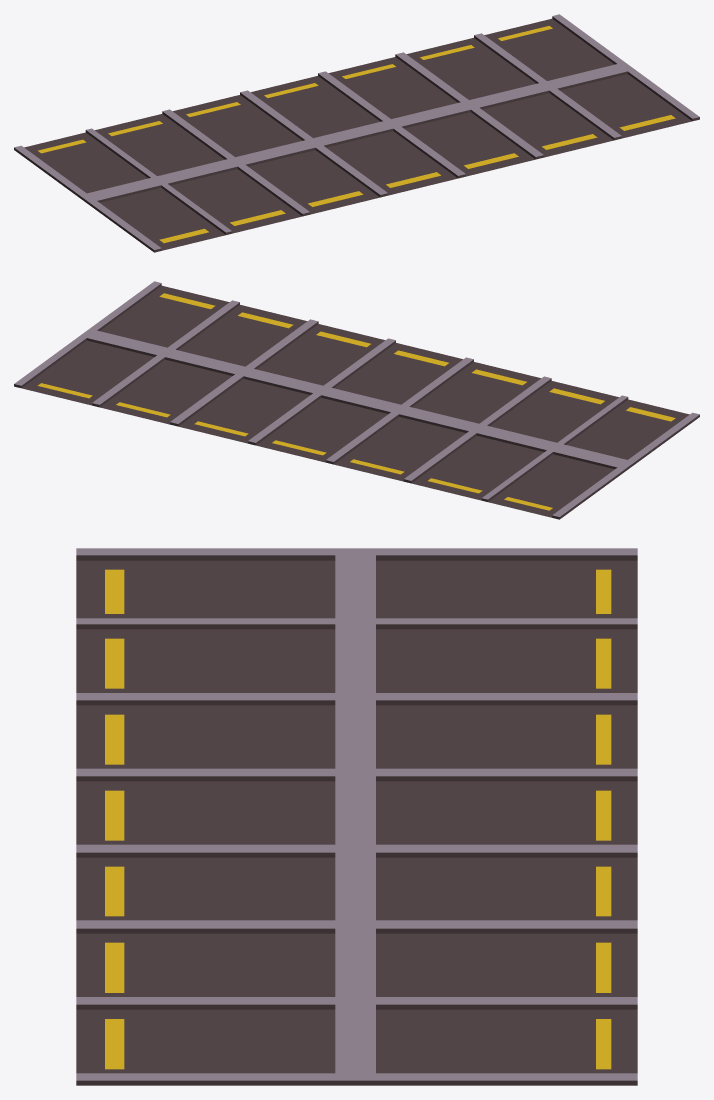
The model's file is Parking.fbx.
The picture shows the model from 3 angles, top to bottom: view 1: azimuth 30°, elevation 25°; view 2: azimuth 150°, elevation 25°; view 3: azimuth 270°, elevation 25°; orthographic projection. The views are drawn at different scales.
Visible parts, largest first — view 1: Plane; view 2: Plane; view 3: Plane.
Boxes of the visible parts, x1,y1,x2,y2 form: Plane: [14, 14, 699, 252]; Plane: [14, 281, 699, 519]; Plane: [76, 548, 637, 1085].
Size of the model in its own units: 1571 by 700 by 6.95.
